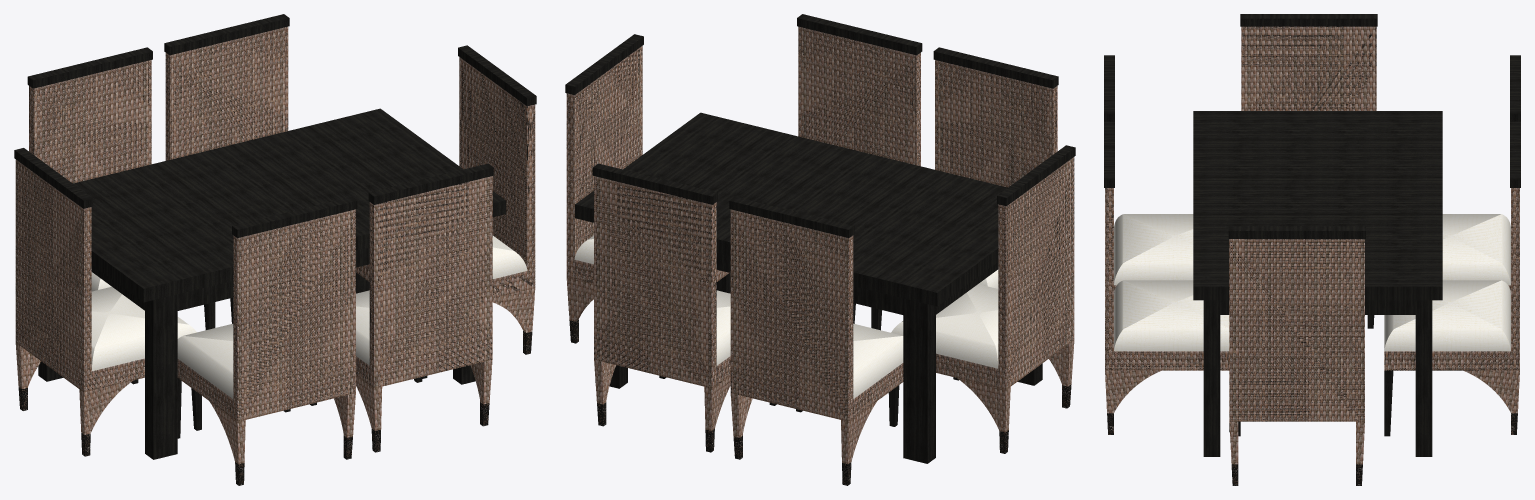
Rendered from dining furniture 10.dae.
The picture shows the model from 3 angles, left to right: view 1: azimuth 30°, elevation 25°; view 2: azimuth 150°, elevation 25°; view 3: azimuth 270°, elevation 25°; orthographic projection.
Visible parts, largest first — view 1: group_12 (×3), group_13 (×2), group_6 (×2), group_25 (×2), group_31 (×2), group_19 (×2), group_0 (×2), group_30, group_18, group_29, group_4, group_11 (+3 smaller); view 2: group_12 (×3), group_19 (×2), group_31 (×2), group_25 (×2), group_6 (×2), group_13 (×2), group_0 (×2), group_30, group_24, group_28, group_36, group_22 (+2 smaller); view 3: group_12 (×3), group_0 (×2), group_25 (×2), group_36, group_11, group_18, group_24, group_31 (×2), group_6 (×2), group_10, group_35, group_13 (+2 smaller).
Part boxes in pixels (left/top/right/bottom): group_12 (×3): left=38, top=108, right=505, bottom=459; group_13 (×2): left=177, top=197, right=357, bottom=421; group_6 (×2): left=356, top=163, right=493, bottom=388; group_25 (×2): left=14, top=148, right=144, bottom=392; group_31 (×2): left=164, top=14, right=289, bottom=160; group_19 (×2): left=27, top=47, right=152, bottom=183; group_0 (×2): left=356, top=45, right=536, bottom=298; group_30: left=91, top=286, right=196, bottom=371; group_18: left=177, top=323, right=233, bottom=398; group_29: left=79, top=380, right=132, bottom=434; group_4: left=492, top=288, right=535, bottom=332; group_11: left=356, top=290, right=369, bottom=365; group_12 (×3): left=575, top=112, right=1042, bottom=463; group_19 (×2): left=729, top=197, right=903, bottom=421; group_31 (×2): left=592, top=163, right=730, bottom=388; group_25 (×2): left=936, top=145, right=1075, bottom=389; group_6 (×2): left=797, top=14, right=922, bottom=166; group_13 (×2): left=933, top=47, right=1058, bottom=187; group_0 (×2): left=565, top=34, right=729, bottom=283; group_30: left=891, top=284, right=998, bottom=368; group_24: left=853, top=323, right=903, bottom=398; group_28: left=957, top=378, right=1010, bottom=432; group_36: left=716, top=290, right=730, bottom=365; group_22: left=841, top=401, right=876, bottom=464; group_12 (×3): left=1193, top=111, right=1442, bottom=456; group_0 (×2): left=1228, top=226, right=1365, bottom=421; group_25 (×2): left=1240, top=14, right=1377, bottom=110; group_36: left=1384, top=280, right=1510, bottom=351; group_11: left=1114, top=280, right=1229, bottom=351; group_18: left=1114, top=214, right=1193, bottom=285; group_24: left=1442, top=214, right=1510, bottom=285; group_31 (×2): left=1384, top=121, right=1520, bottom=370; group_6 (×2): left=1104, top=121, right=1229, bottom=370; group_10: left=1105, top=370, right=1160, bottom=413; group_35: left=1464, top=370, right=1519, bottom=413; group_13: left=1104, top=55, right=1114, bottom=121.
Bounding box in the file's own units: 67.03 × 54.45 × 37.01.
Materials: 6 (6 with a texture image).
